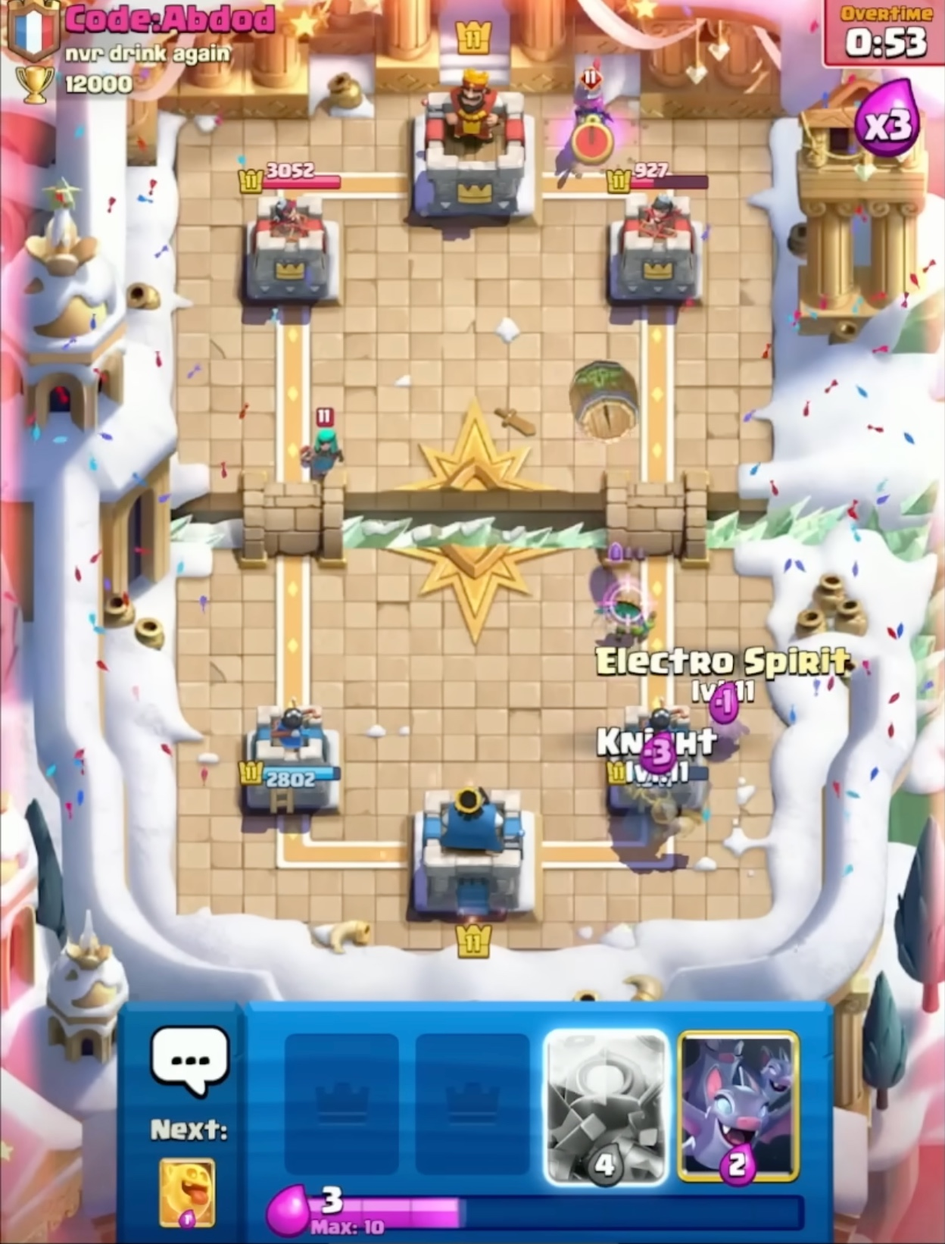evo-musketeer: (559, 62, 622, 170)
goblin-barrel: (555, 342, 646, 450)
rascal-girl: (299, 403, 351, 483)
